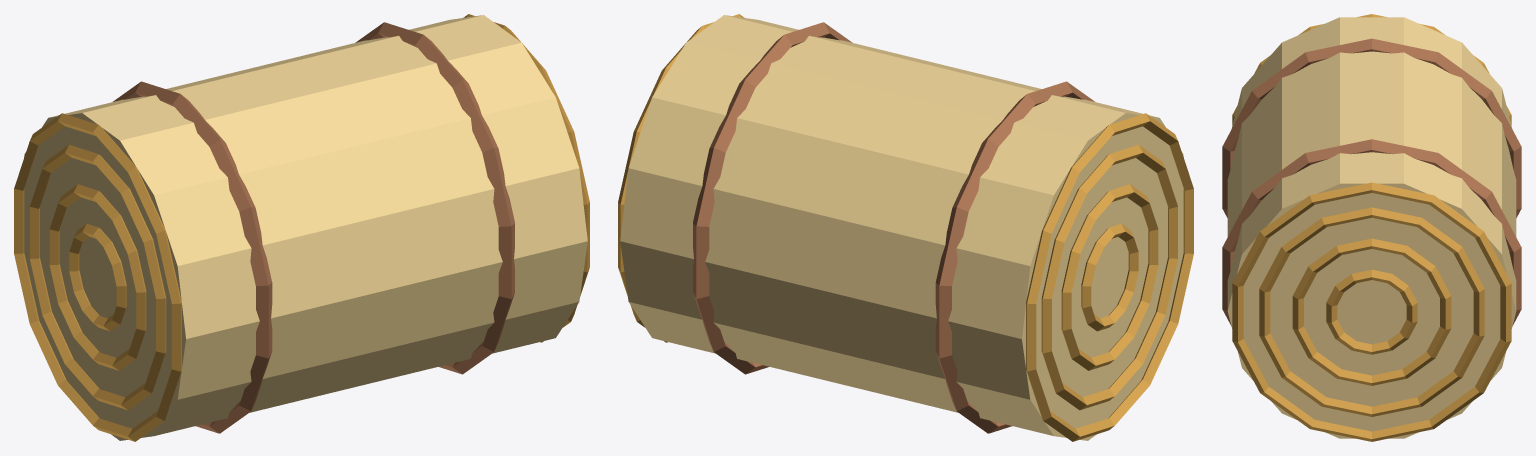
The model's file is 05_Round_Hay_Bale.glb.
The picture shows the model from 3 angles, left to right: view 1: azimuth 30°, elevation 25°; view 2: azimuth 150°, elevation 25°; view 3: azimuth 270°, elevation 25°; orthographic projection. The views are drawn at different scales.
Parts seen in each view (by area): view 1: 05_Round_Hay_Bale__Body; view 2: 05_Round_Hay_Bale__Body; view 3: 05_Round_Hay_Bale__Body.
Boxes of the visible parts, left/top/right/bottom form: 05_Round_Hay_Bale__Body: left=14, top=14, right=589, bottom=441; 05_Round_Hay_Bale__Body: left=618, top=14, right=1193, bottom=441; 05_Round_Hay_Bale__Body: left=1222, top=14, right=1521, bottom=441.
Bounding box in the file's own units: 1.79 × 1.34 × 1.31.
1 material, 1 textured.
